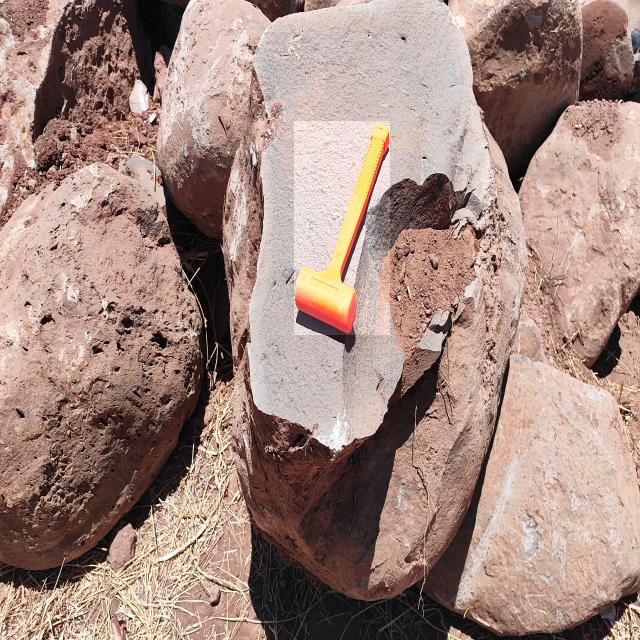Orange_hammer: (294, 121, 390, 335)
